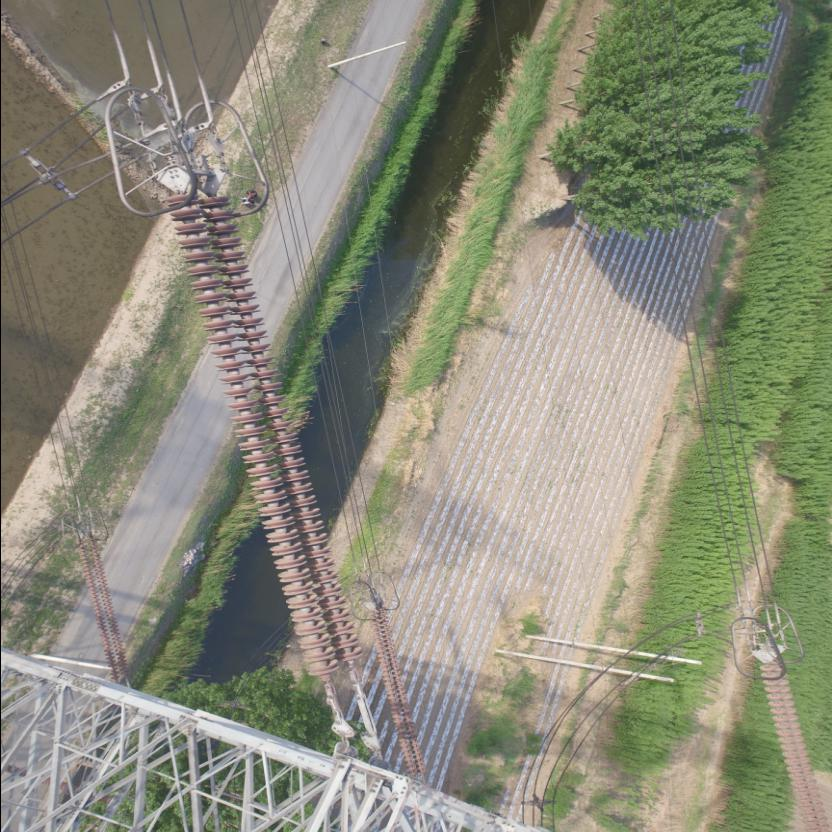insulator: (164, 185, 364, 699), (756, 656, 831, 831), (366, 610, 430, 778), (78, 532, 135, 690)
